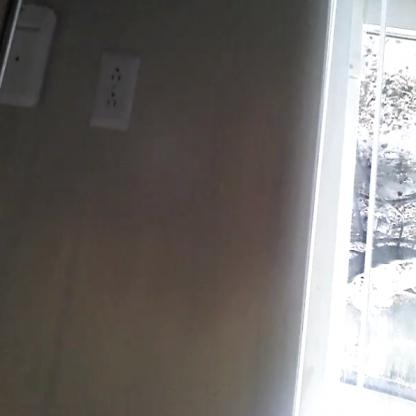OUTLET: (92, 54, 136, 130)
